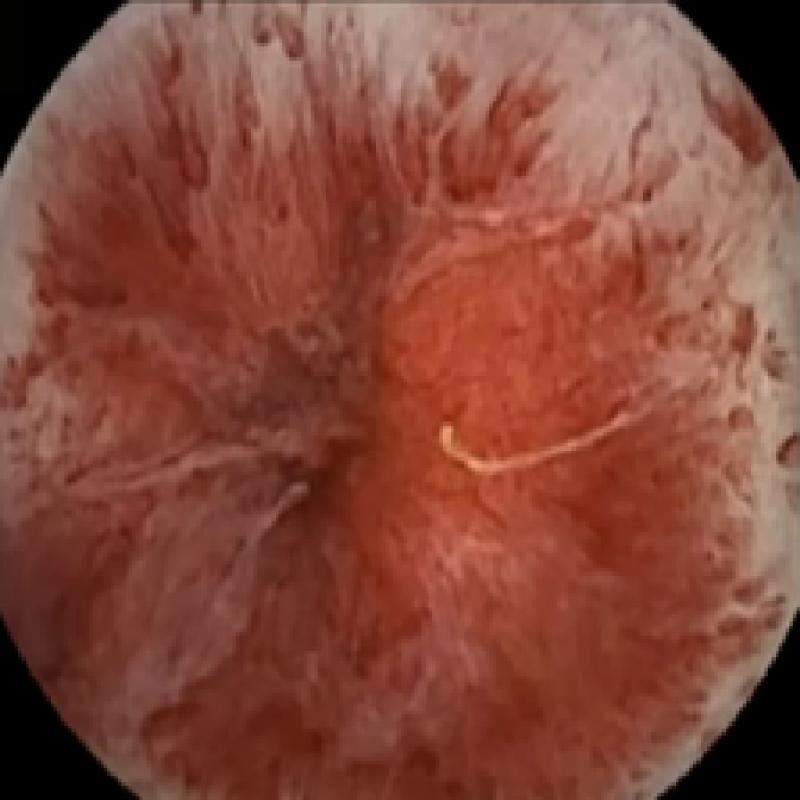bleeding: (0, 14, 768, 800)
